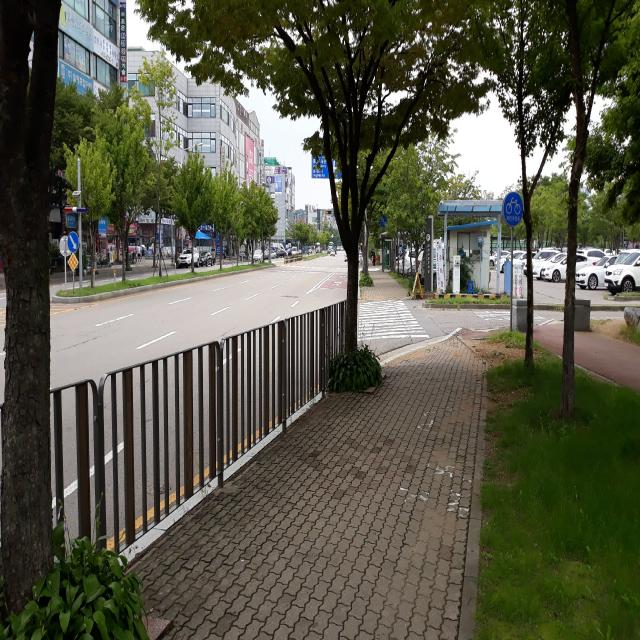횡단보도: (357, 299, 430, 342)
